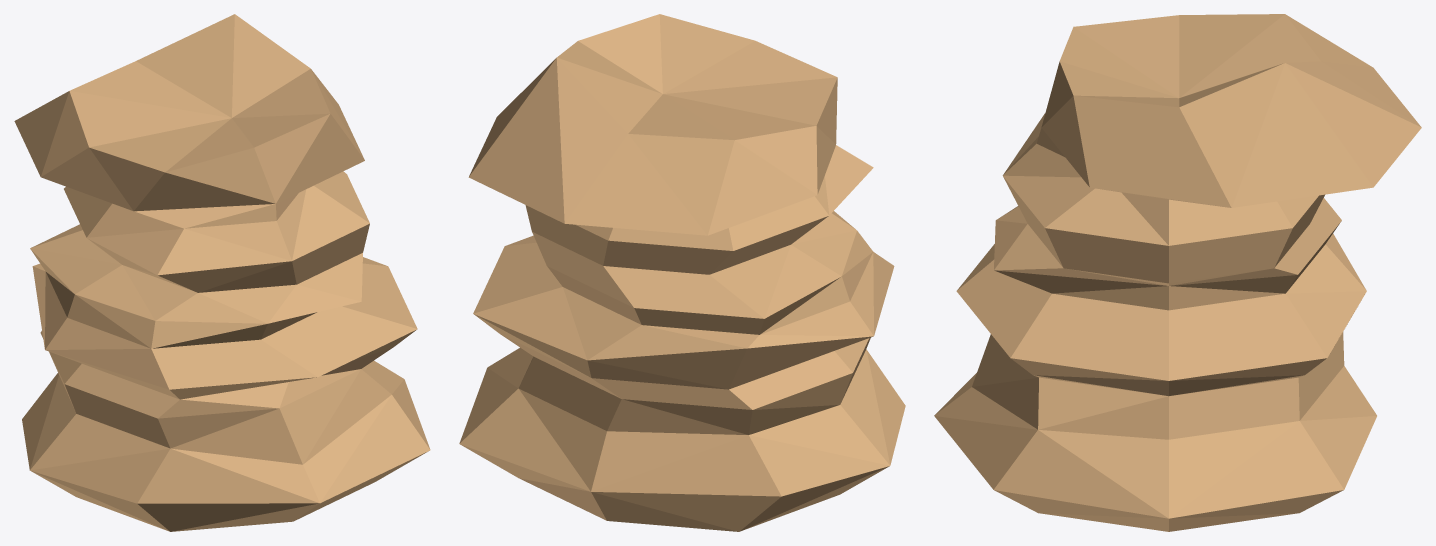
Rendered from Rock_8.fbx.
The picture shows the model from 3 angles, left to right: view 1: azimuth 30°, elevation 25°; view 2: azimuth 150°, elevation 25°; view 3: azimuth 270°, elevation 25°; orthographic projection. The views are drawn at different scales.
Parts seen in each view (by area): view 1: Rock_8; view 2: Rock_8; view 3: Rock_8.
Part boxes in pixels (x1,y1,x2,y2): Rock_8: (14,14,430,531); Rock_8: (459,14,905,531); Rock_8: (934,14,1421,531).
Bounding box in the file's own units: 335 × 342 × 336.
